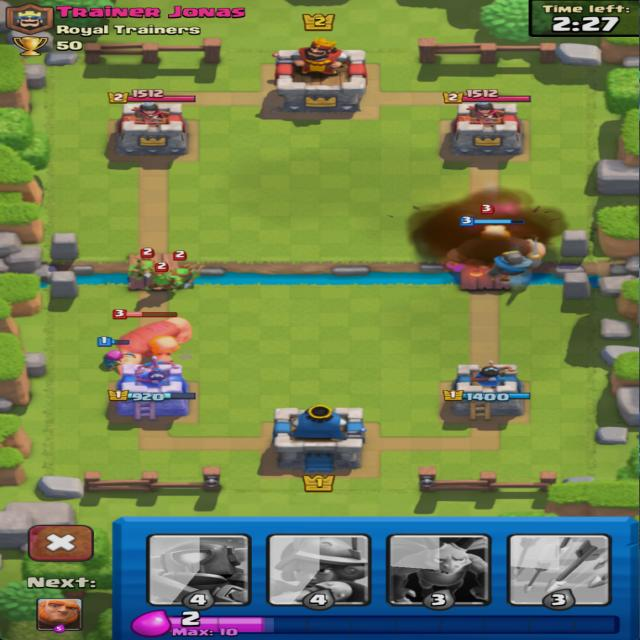Archer_Troop: (98, 350, 131, 368)
Arrows_Loading: (508, 533, 613, 610)
Enemy_Giant_Troop: (116, 317, 194, 364)
Enemy_Spear_Goblin_Troop: (130, 258, 162, 280), (174, 263, 203, 286), (147, 271, 174, 292)
Giant_Next: (26, 576, 99, 634)
Giant_Troop: (451, 224, 547, 268)
Knight_Troop: (488, 252, 542, 280)
Mini_Pekka_Loading: (148, 533, 252, 611)
Minions_Loading: (386, 534, 492, 612)
Musketeer_Loading: (267, 534, 373, 610)
